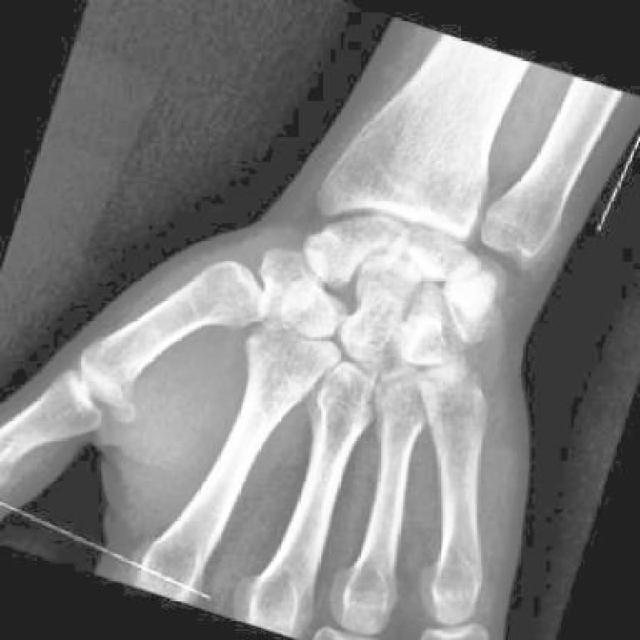Fracture: (446, 271, 503, 327)
